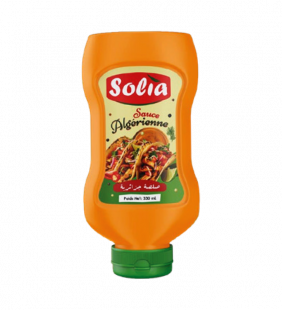SOLIA: (76, 26, 205, 284)
